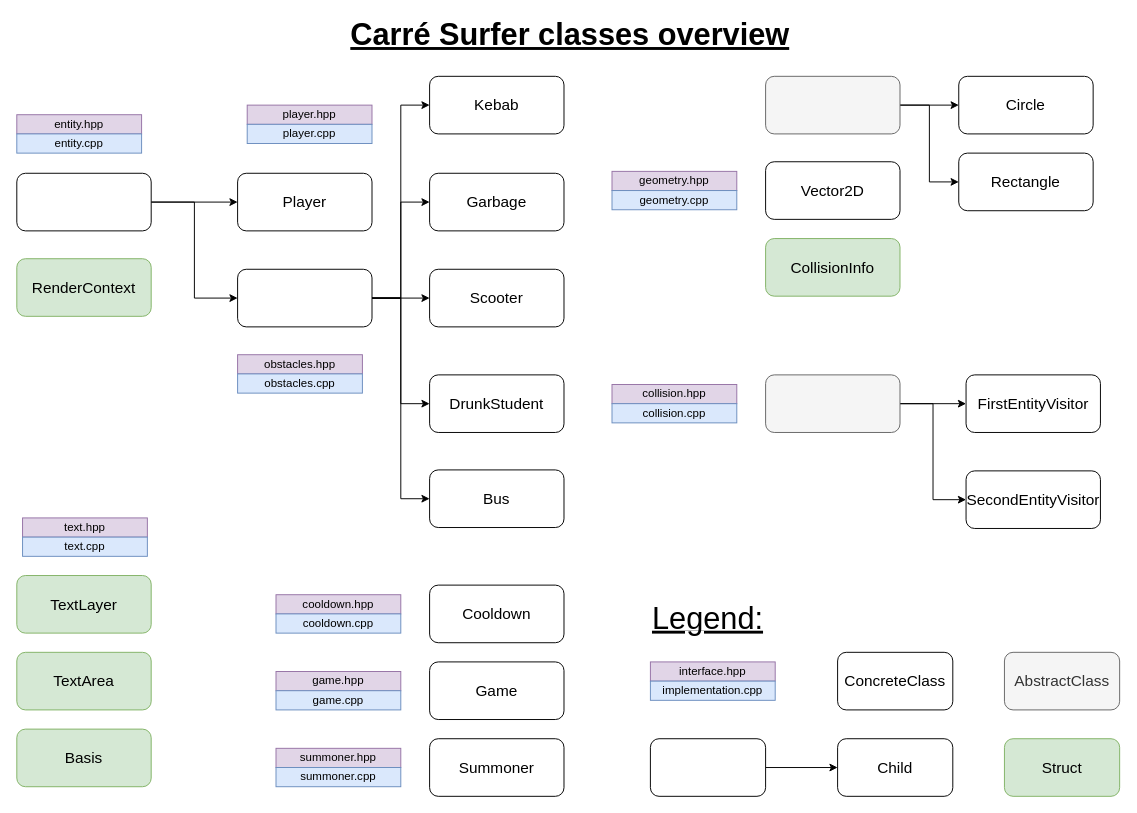
This 1137x813 diagram has some shape labels left out. The centre of each missing label's shape, as x and y in pixels:
CollisionVisitor: pixel 832 403
Entity: pixel 83 201
Obstacle: pixel 304 297
Parent: pixel 707 767
Shape: pixel 832 104
